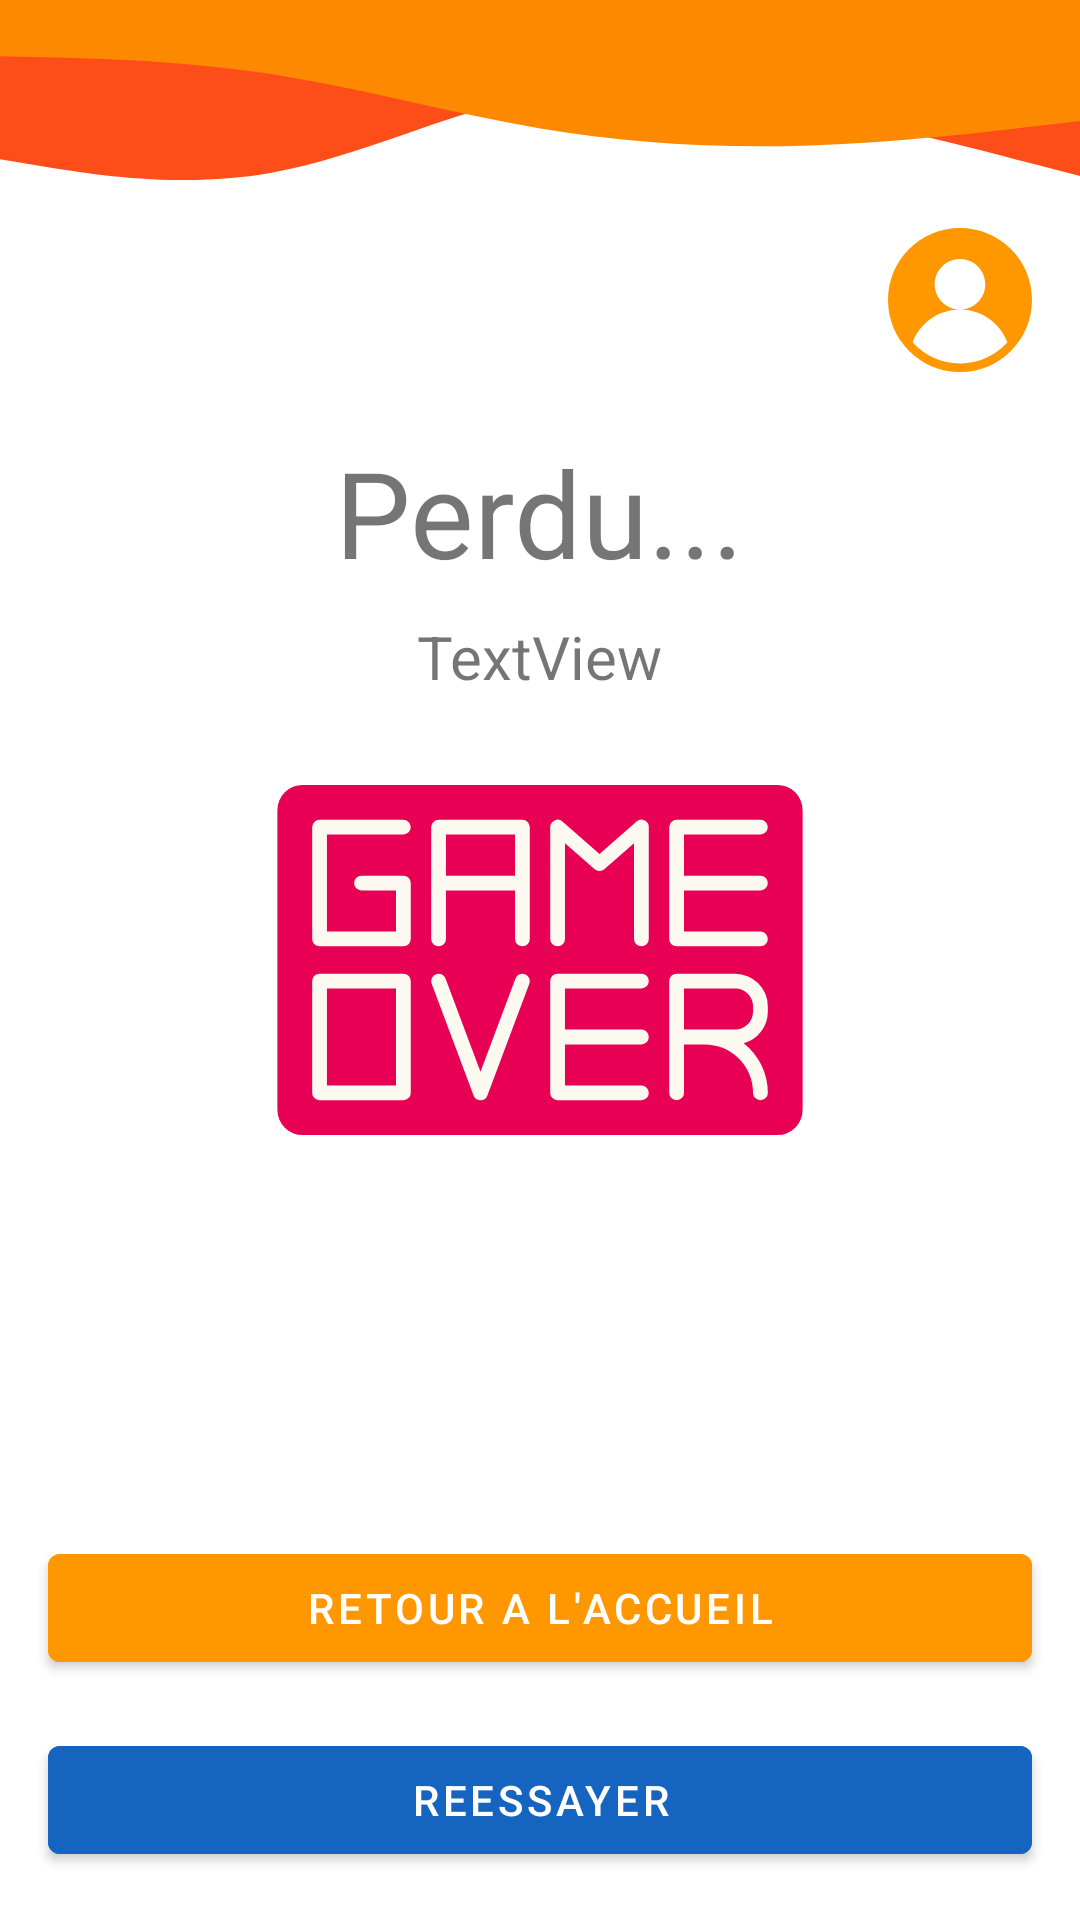

Icon click points for this 1080px x 1920px phone screenshot, format (x=x, y=y):
user: (x=960, y=300)
